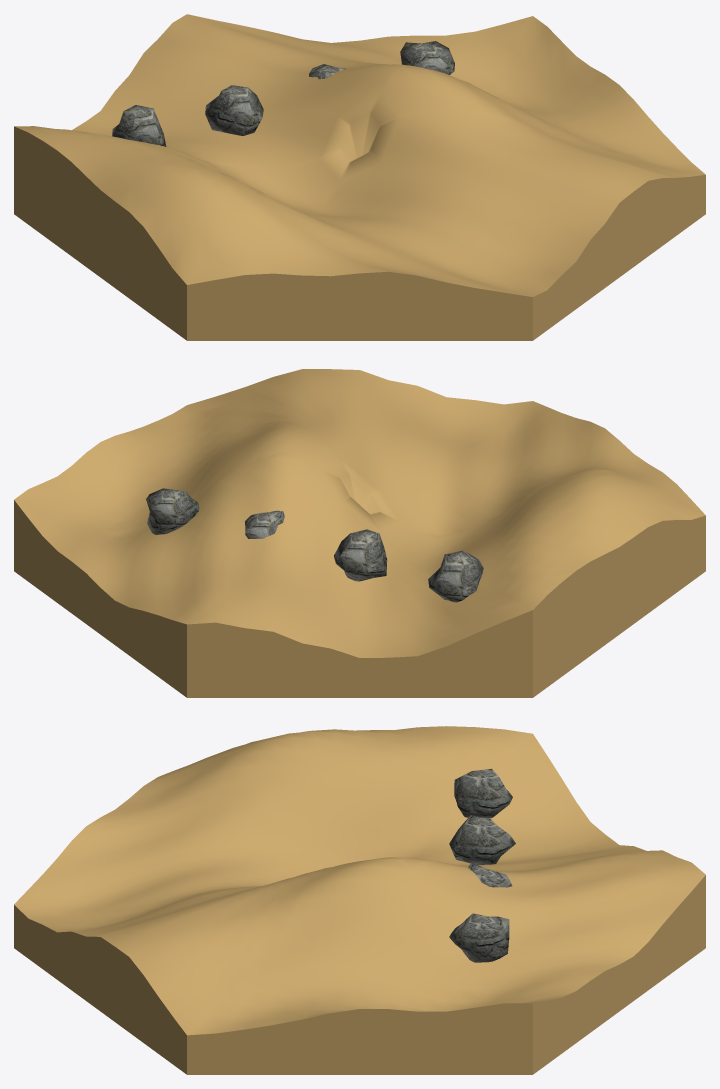
File: env-terrain-desert.glb
3 views of the same model, one above another, from view 1: azimuth 30°, elevation 25°; view 2: azimuth 150°, elevation 25°; view 3: azimuth 270°, elevation 25° (orthographic).
Visible parts, largest first — view 1: terrain desert · authored textured miniature; view 2: terrain desert · authored textured miniature; view 3: terrain desert · authored textured miniature.
Boxes of the visible parts, x1,y1,x2,y2 form: terrain desert · authored textured miniature: (14,14,705,340); terrain desert · authored textured miniature: (14,369,705,697); terrain desert · authored textured miniature: (14,726,705,1074).
Size of the model in its own units: 1.63 by 0.356 by 1.88.
Materials: 2 (1 with a texture image).
